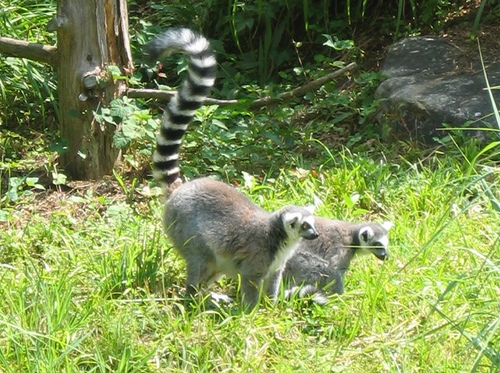cat: (144, 26, 318, 318), (280, 216, 398, 297)
